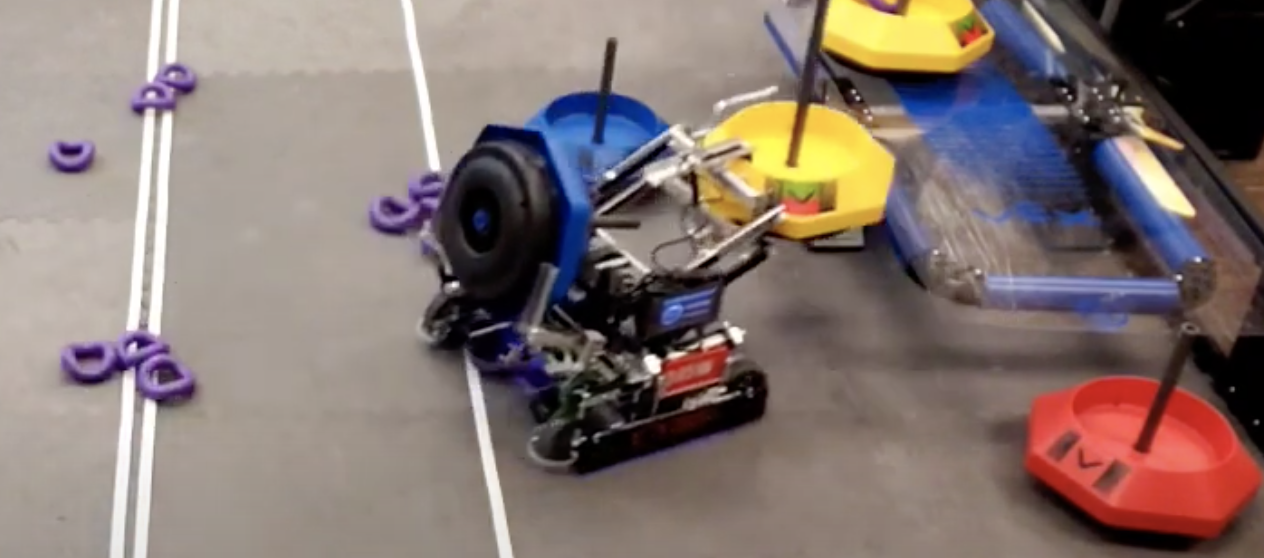ring: (136, 352, 196, 401), (59, 340, 119, 384), (369, 194, 421, 233), (116, 331, 169, 365), (49, 139, 95, 172), (130, 82, 175, 113), (154, 63, 196, 93), (408, 171, 444, 195)
